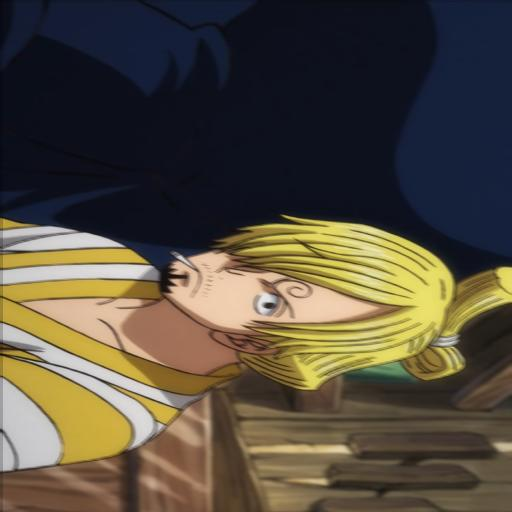sanji: (0, 212, 512, 461)
